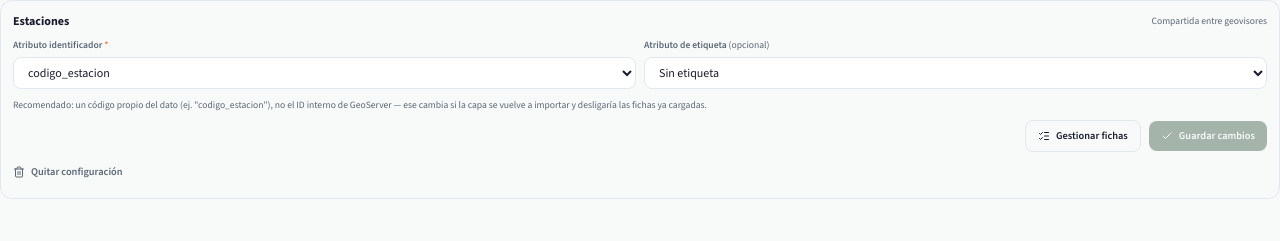
Test: FichaCapaConfigRow — quitar la configuración › si el servidor la rechaza (con fichas o en uso), muestra su mensaje y conserva el identificador
Click the button "Quitar configuración" at {"x": 68, "y": 172}, box [13,163,123,180]
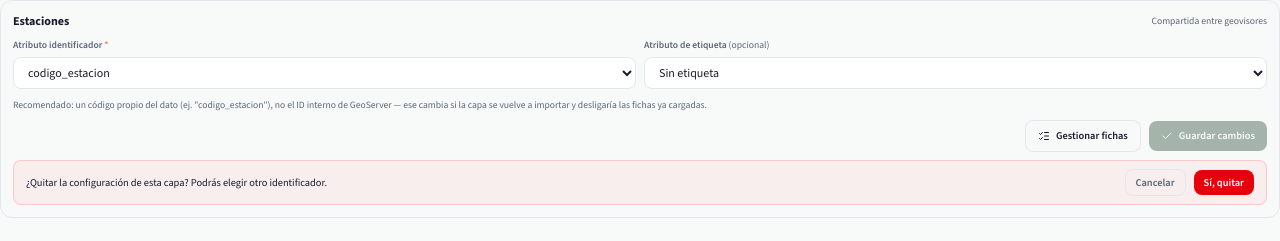
Click the button "Sí, quitar" at {"x": 1224, "y": 182}, box [1194,170,1254,195]
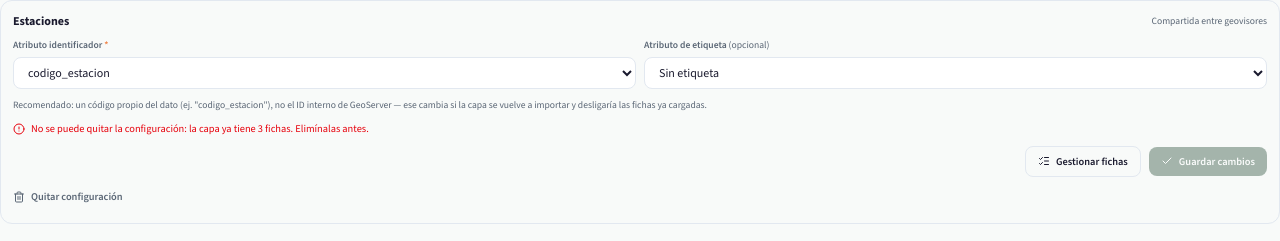
Check: the dropdown labelled "Atributo identificador *" shows "codigo_estacion", box [13,57,636,89]
Check: the text "la capa ya tiene 3 fichas" is shown, box [31,122,369,135]
